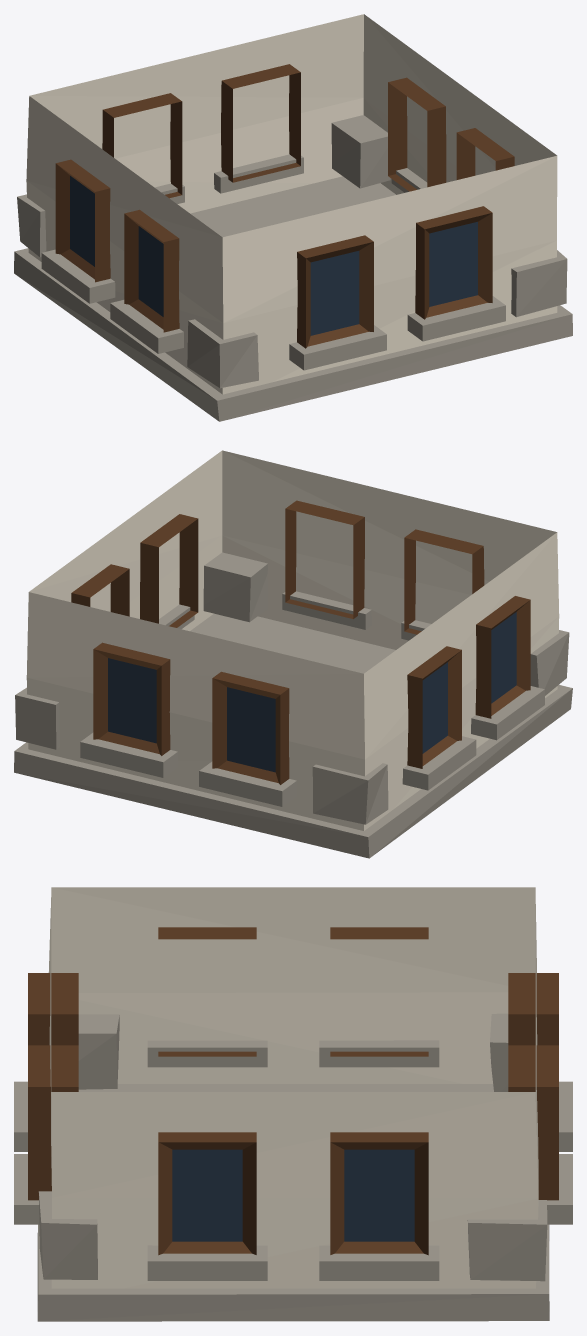
Rendered from tower_floor_a.glb.
3 views of the same model, one above another, from view 1: azimuth 30°, elevation 25°; view 2: azimuth 150°, elevation 25°; view 3: azimuth 270°, elevation 25° (orthographic). The views are drawn at different scales.
Visible parts, largest first — view 1: tower_floor_a; view 2: tower_floor_a; view 3: tower_floor_a.
Boxes of the visible parts, bbox=[...] form: tower_floor_a: bbox=[14, 14, 572, 421]; tower_floor_a: bbox=[14, 450, 572, 858]; tower_floor_a: bbox=[14, 887, 572, 1321].
Size of the model in its own units: 0.716 by 0.316 by 0.716.
